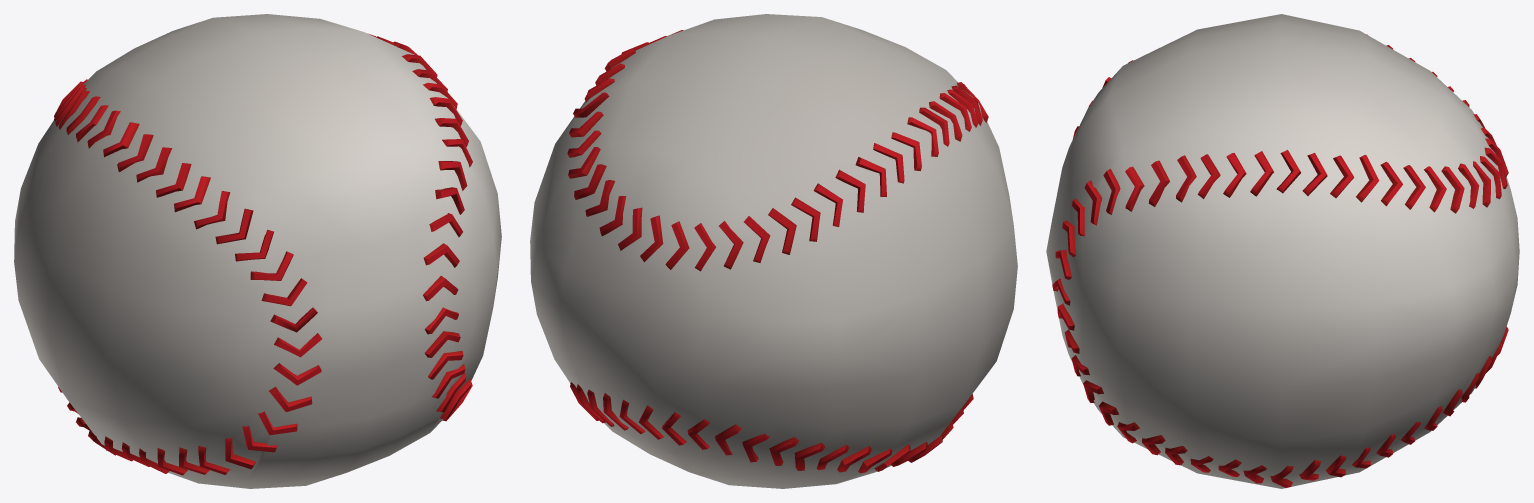
The model's file is human-sports-baseball_v1.glb.
3 views of the same model, side by side, from view 1: azimuth 30°, elevation 25°; view 2: azimuth 150°, elevation 25°; view 3: azimuth 270°, elevation 25° (orthographic). The views are drawn at different scales.
Parts seen in each view (by area): view 1: Baseball.001; view 2: Baseball.001; view 3: Baseball.001.
Part boxes in pixels (box(x1,y1,x2,y2)): Baseball.001: box(14, 14, 501, 488); Baseball.001: box(530, 14, 1017, 488); Baseball.001: box(1046, 14, 1519, 488).
Bounding box in the file's own units: 0.074 × 0.0728 × 0.074.
